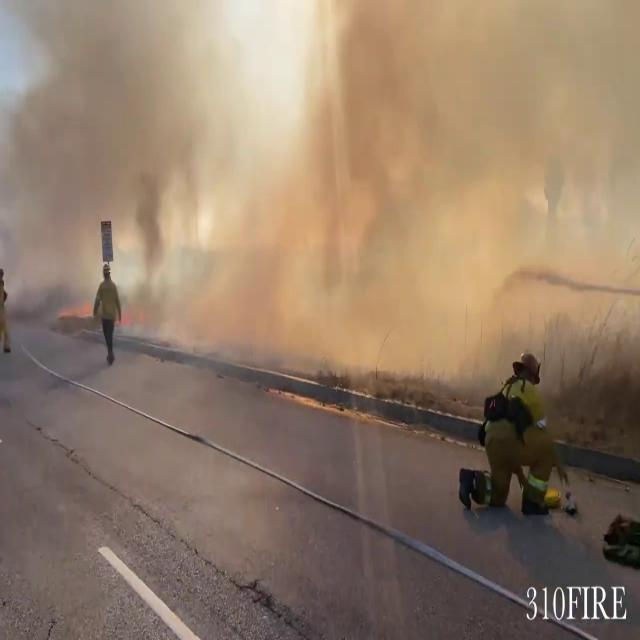Smoke: (1, 0, 640, 376)
